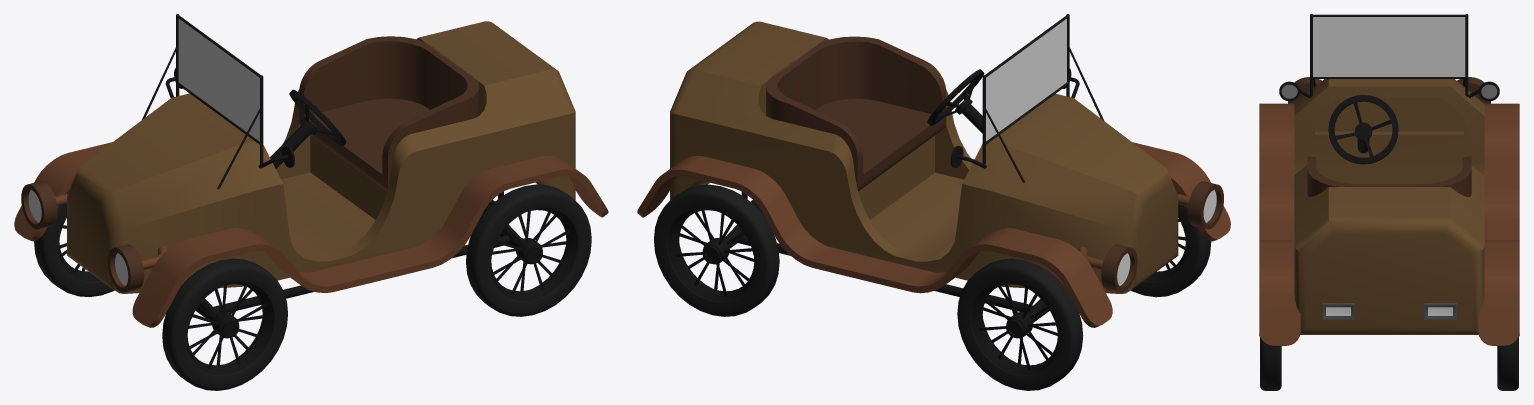
The model's file is VintageCarBrown.fbx.
The picture shows the model from 3 angles, left to right: view 1: azimuth 30°, elevation 25°; view 2: azimuth 150°, elevation 25°; view 3: azimuth 270°, elevation 25°; orthographic projection. The views are drawn at different scales.
Visible parts, largest first — view 1: Plane.003, Circle.008, Circle.001, Circle.005; view 2: Plane.003, Circle.006, Circle.005, Circle.001; view 3: Plane.003, Circle.006, Circle.008.
Part boxes in pixels (x1,y1,x2,y2): Plane.003: (14, 14, 608, 327); Circle.008: (466, 184, 591, 316); Circle.001: (162, 258, 287, 390); Circle.005: (34, 190, 114, 297); Plane.003: (637, 14, 1230, 327); Circle.006: (654, 184, 779, 316); Circle.005: (957, 258, 1083, 390); Circle.001: (1131, 190, 1211, 297); Plane.003: (1259, 14, 1519, 345); Circle.006: (1497, 333, 1519, 390); Circle.008: (1259, 333, 1281, 390).
Size of the model in its own units: 763 by 439 by 398.
